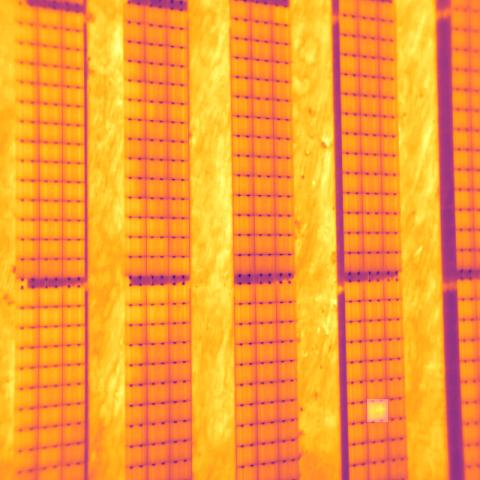fault: (367, 399, 388, 422), (272, 6, 291, 27)
